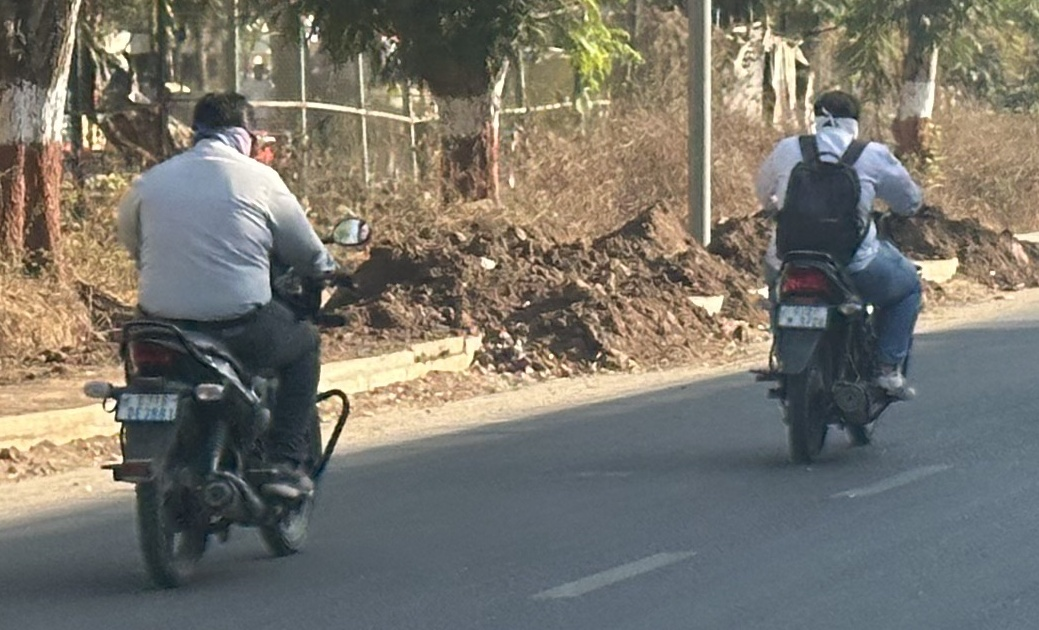BikeWithRider: (71, 83, 379, 597), (737, 81, 940, 472)
NoHelmet: (179, 84, 263, 161), (801, 84, 868, 144)
